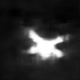plane: (22, 27, 72, 61)
